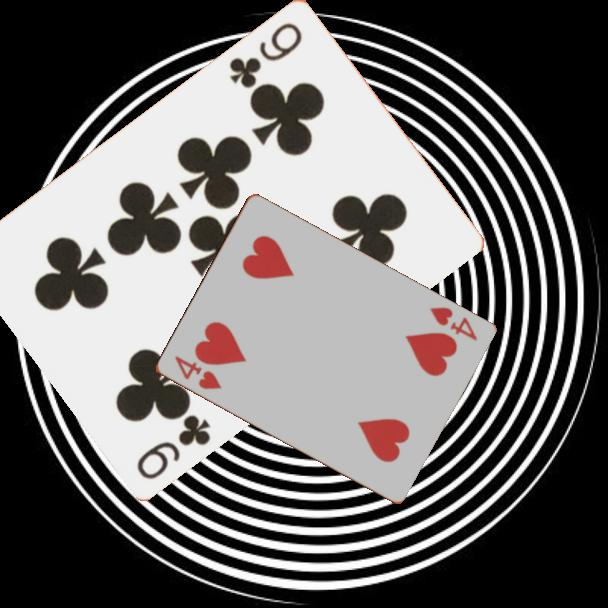c09: (226, 18, 306, 91), (133, 410, 214, 482)
h04: (425, 303, 480, 344), (171, 352, 224, 393)
